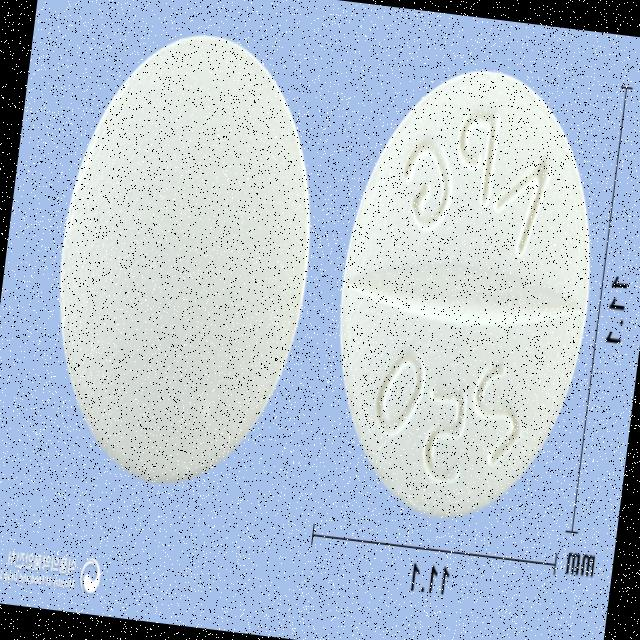Ciflo: (32, 13, 340, 504), (311, 50, 617, 538)
